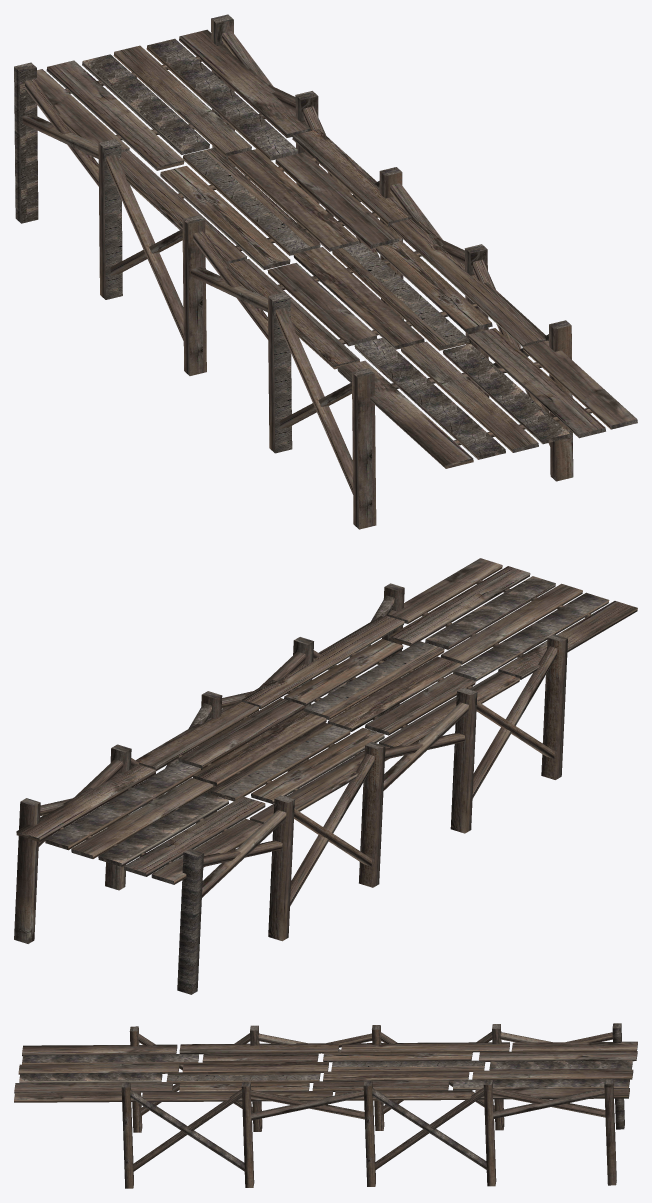
The model's file is WOOD_BROAD.fbx.
3 renders of one model, top to bottom at view 1: azimuth 30°, elevation 25°; view 2: azimuth 150°, elevation 25°; view 3: azimuth 270°, elevation 25°, orthographic. The views are drawn at different scales.
Parts seen in each view (by area): view 1: WOOD_BROAD; view 2: WOOD_BROAD; view 3: WOOD_BROAD.
Boxes of the visible parts, x1,y1,x2,y2 form: WOOD_BROAD: (14, 14, 637, 529); WOOD_BROAD: (14, 558, 637, 994); WOOD_BROAD: (14, 1023, 637, 1188).
Bounding box in the file's own units: 815 × 578 × 2746.
